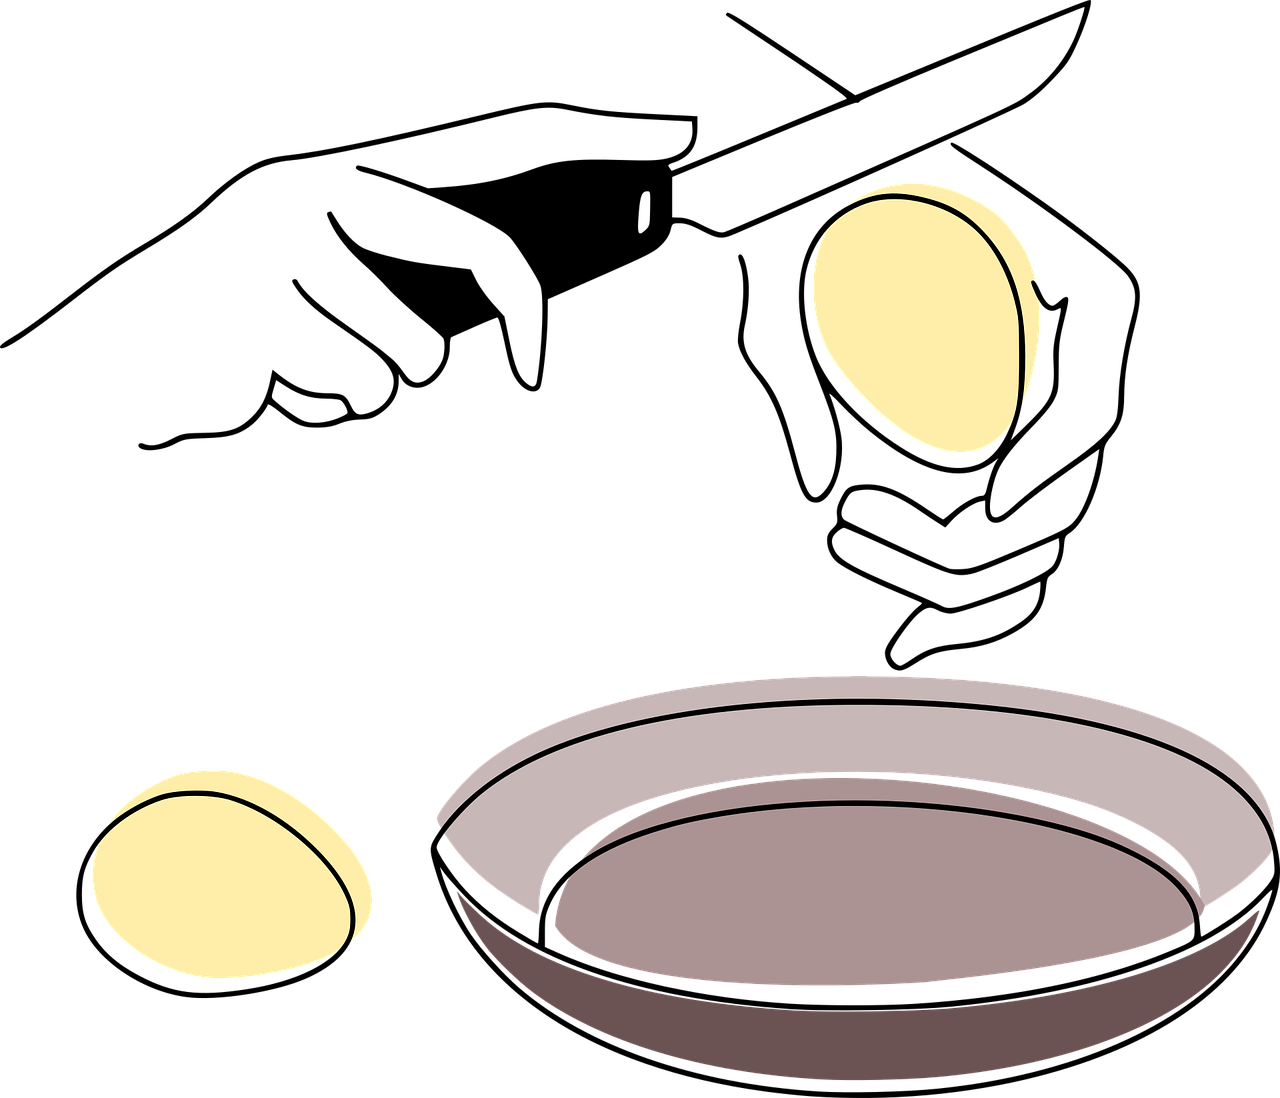knife: (305, 4, 1090, 358)
